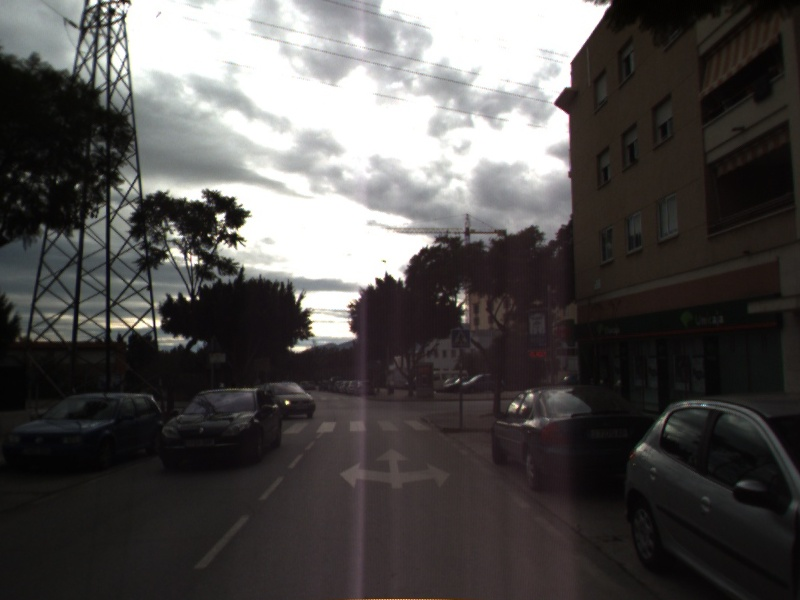STRAIGHT_LEFT_RIGHT: (337, 446, 454, 492)
